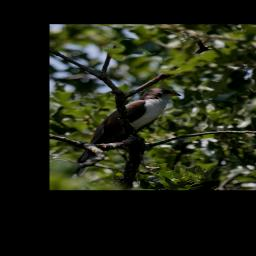Cuckoo: (63, 87, 182, 178)
